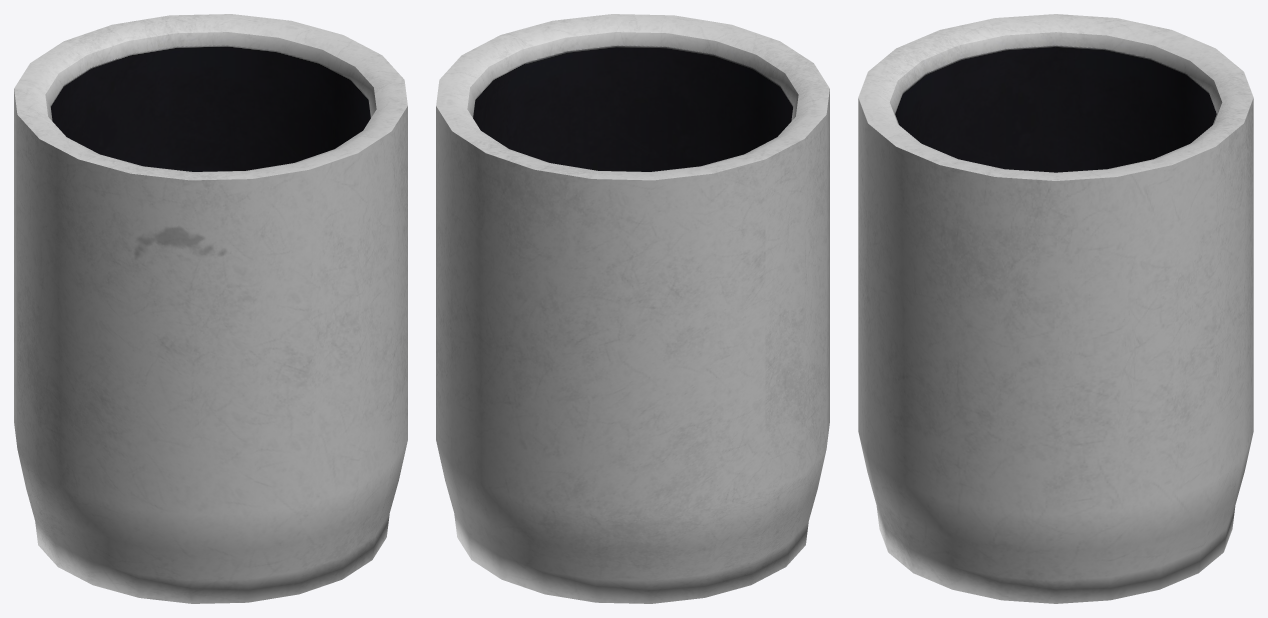
Rendered from Tazza1.fbx.
3 views of the same model, side by side, from view 1: azimuth 30°, elevation 25°; view 2: azimuth 150°, elevation 25°; view 3: azimuth 270°, elevation 25° (orthographic).
Visible parts, largest first — view 1: pCylinder1; view 2: pCylinder1; view 3: pCylinder1.
Boxes of the visible parts, x1=… form: pCylinder1: x1=14, y1=14, x2=407, y2=603; pCylinder1: x1=436, y1=14, x2=829, y2=603; pCylinder1: x1=858, y1=14, x2=1253, y2=603.
Size of the model in its own units: 2 by 2.47 by 2.
Materials: 1 (1 with a texture image).
